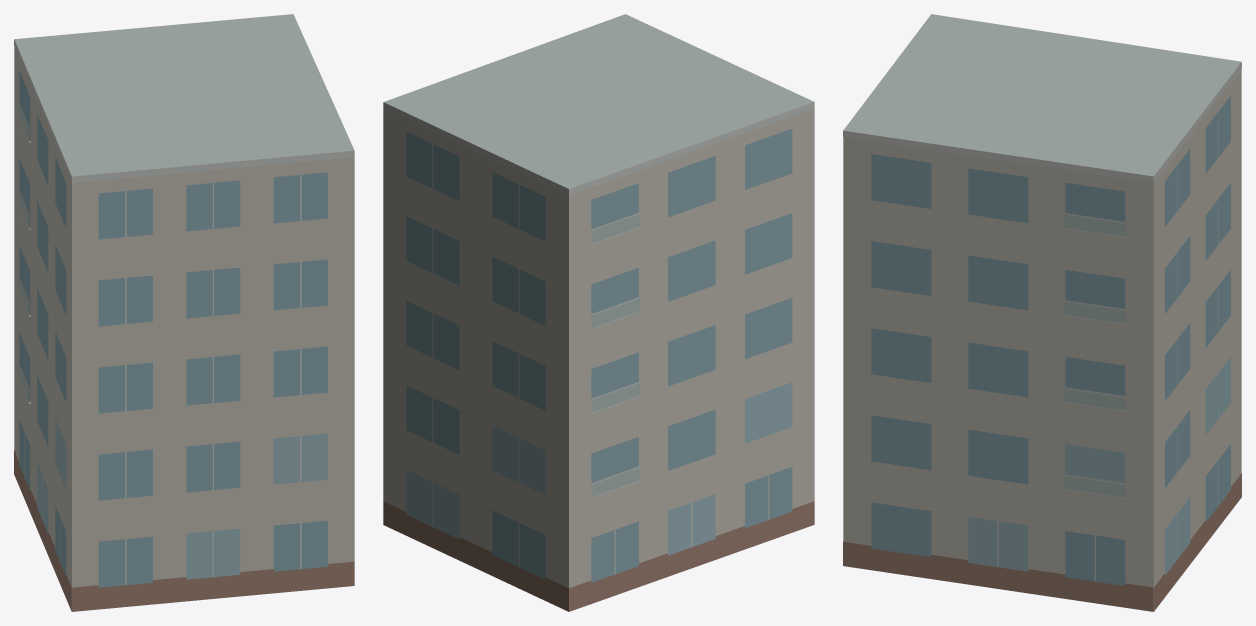
The model's file is survey-upis-32833791.glb.
3 views of the same model, side by side, from view 1: azimuth 30°, elevation 25°; view 2: azimuth 150°, elevation 25°; view 3: azimuth 270°, elevation 25° (orthographic). The views are drawn at different scales.
Visible parts, largest first — view 1: survey-upis-32833791.tmp; view 2: survey-upis-32833791.tmp; view 3: survey-upis-32833791.tmp.
Part boxes in pixels (box(x1,y1,x2,y2)): survey-upis-32833791.tmp: box(14, 14, 354, 611); survey-upis-32833791.tmp: box(383, 14, 814, 611); survey-upis-32833791.tmp: box(843, 14, 1241, 611).
Size of the model in its own units: 13.05 by 16.3 by 13.53.
